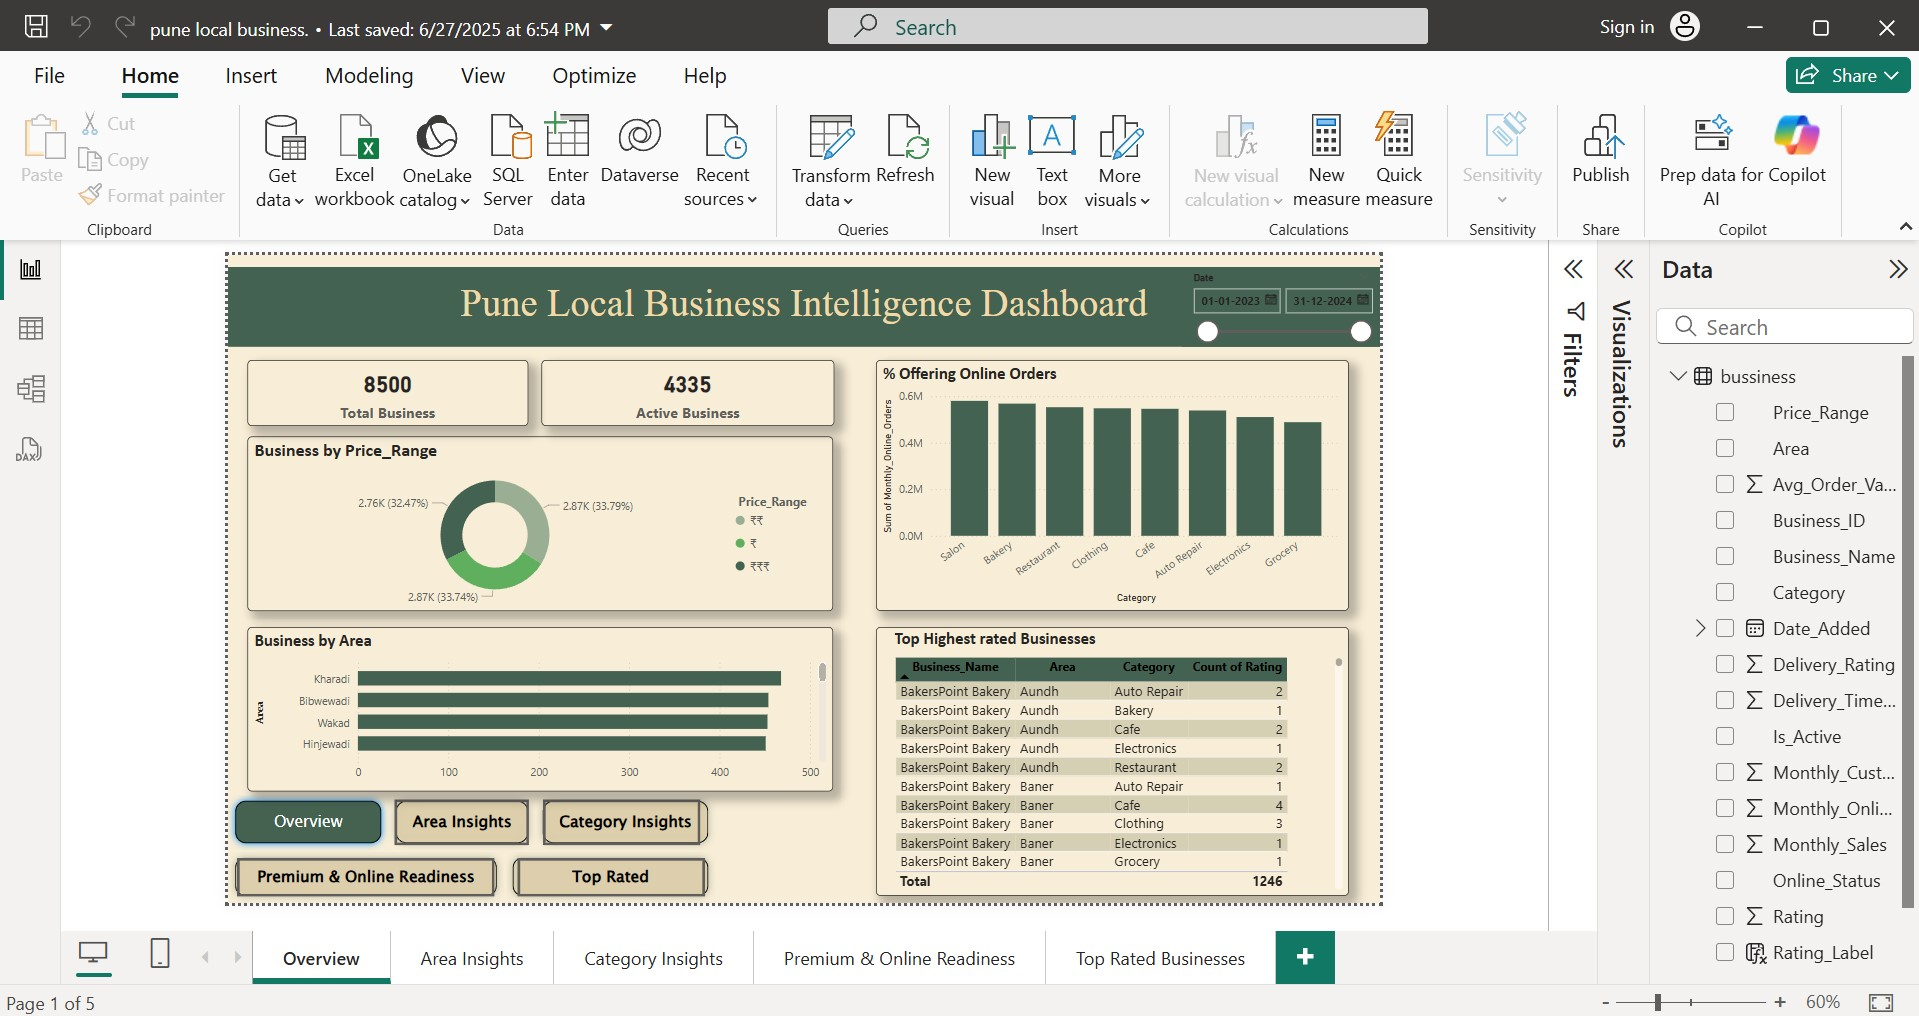

The dashboard page shown, as its layout file describes it:
{"tool":"powerbi","page":{"name":"Overview","canvas":[1280,720],"ordinal":0},"visuals":[{"type":"textbox","box":[0,13.3,1280,88.3],"z":0},{"type":"shape","box":[0,598.3,178.3,63.3],"z":1000},{"type":"shape","box":[178.3,598.3,163.3,63.3],"z":2000},{"type":"shape","box":[341.7,598.3,200,63.3],"z":3000},{"type":"shape","box":[0,661.7,306.7,58.3],"z":4000},{"type":"shape","box":[308.3,661.7,233.3,58.3],"z":5000},{"type":"actionButton","box":[184.5,604.4,149.5,50.9],"z":6000},{"type":"actionButton","box":[349.9,604.4,175,50.9],"z":7000},{"type":"actionButton","box":[9.5,669.6,286.3,42.9],"z":8000},{"type":"actionButton","box":[321.3,669.6,208.4,42.9],"z":9000},{"type":"card","fields":{"Values":["CountNonNull(bussiness.Business_Name)"]},"box":[21.7,116.7,311.7,73.3],"z":10000},{"type":"card","fields":{"Values":["CountNonNull(bussiness.Business_Name)"]},"box":[348.3,116.7,325,73.3],"z":11000},{"type":"donutChart","title":"Business by  Price_Range ","fields":{"Category":["bussiness. Price_Range "],"Y":["CountNonNull(bussiness.Business_ID)"]},"box":[21.6,202,651,194.1],"z":12000},{"type":"columnChart","title":"% Offering Online Orders","fields":{"Category":["bussiness.Category"],"Y":["Sum(bussiness.Monthly_Online_Orders)"]},"box":[720,116.7,525,278.3],"z":13000},{"type":"barChart","fields":{"Category":["bussiness.Area"],"Y":["CountNonNull(bussiness.Business_ID)"]},"box":[21.6,413.7,651,182.4],"z":14000},{"type":"tableEx","title":"Top Highest rated Businesses","fields":{"Values":["bussiness.Business_Name","bussiness.Area","bussiness.Category","CountNonNull(bussiness.Rating)"]},"box":[720,413.3,525,298.3],"z":15000},{"type":"slicer","fields":{"Values":["bussiness.Date_Added"]},"box":[1060,13.3,220,88.3],"z":16000}]}

Visuals, with their boxes on the page's 1280x720 design canvas (x1, y1, x2, y2). These are canvas units, not pixel positions in the 1919x1016 screenshot, which may show the page scaled, cropped or inside an application window:
textbox: Rect(0, 13, 1280, 102)
shape: Rect(0, 598, 178, 662)
shape: Rect(178, 598, 342, 662)
shape: Rect(342, 598, 542, 662)
shape: Rect(0, 662, 307, 720)
shape: Rect(308, 662, 542, 720)
actionButton: Rect(184, 604, 334, 655)
actionButton: Rect(350, 604, 525, 655)
actionButton: Rect(10, 670, 296, 712)
actionButton: Rect(321, 670, 530, 712)
card - CountNonNull(bussiness.Business_Name): Rect(22, 117, 333, 190)
card - CountNonNull(bussiness.Business_Name): Rect(348, 117, 673, 190)
"Business by  Price_Range " donutChart: Rect(22, 202, 673, 396)
"% Offering Online Orders" columnChart: Rect(720, 117, 1245, 395)
barChart - bussiness.Area x CountNonNull(bussiness.Business_ID): Rect(22, 414, 673, 596)
"Top Highest rated Businesses" tableEx: Rect(720, 413, 1245, 712)
slicer - bussiness.Date_Added: Rect(1060, 13, 1280, 102)
